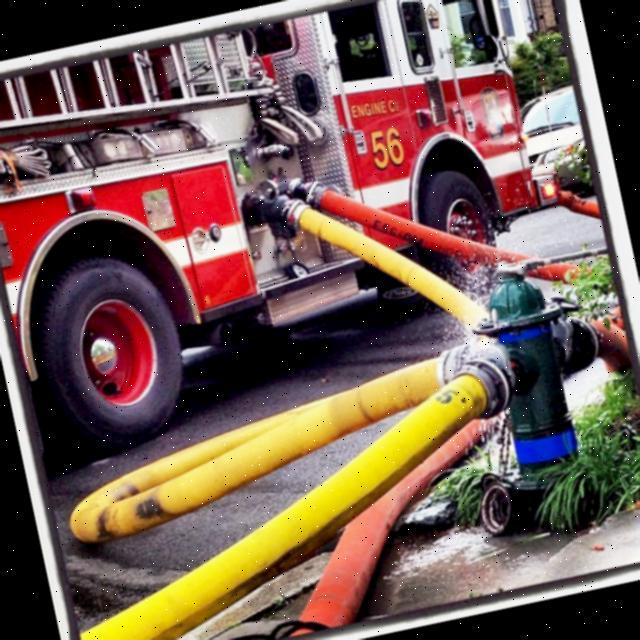fire_hydrant: (430, 250, 630, 534)
